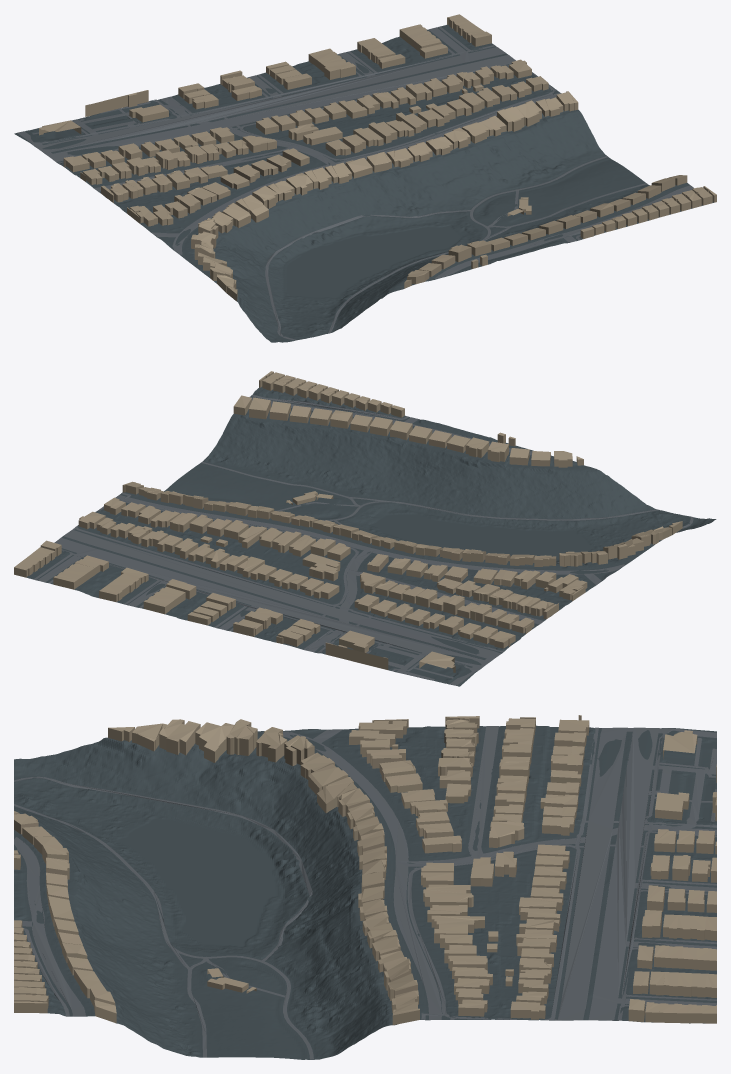
The model's file is epsg26910-1419-10876.lod0.glb.
The picture shows the model from 3 angles, top to bottom: view 1: azimuth 30°, elevation 25°; view 2: azimuth 150°, elevation 25°; view 3: azimuth 270°, elevation 25°; orthographic projection. The views are drawn at different scales.
Visible parts, largest first — view 1: epsg26910-1419-10876-lod0; view 2: epsg26910-1419-10876-lod0; view 3: epsg26910-1419-10876-lod0.
Boxes of the visible parts, left/top/right/bottom form: epsg26910-1419-10876-lod0: left=14, top=14, right=716, bottom=342; epsg26910-1419-10876-lod0: left=14, top=371, right=716, bottom=686; epsg26910-1419-10876-lod0: left=14, top=715, right=716, bottom=1059.
Bounding box in the file's own units: 384 × 39.7 × 384.
